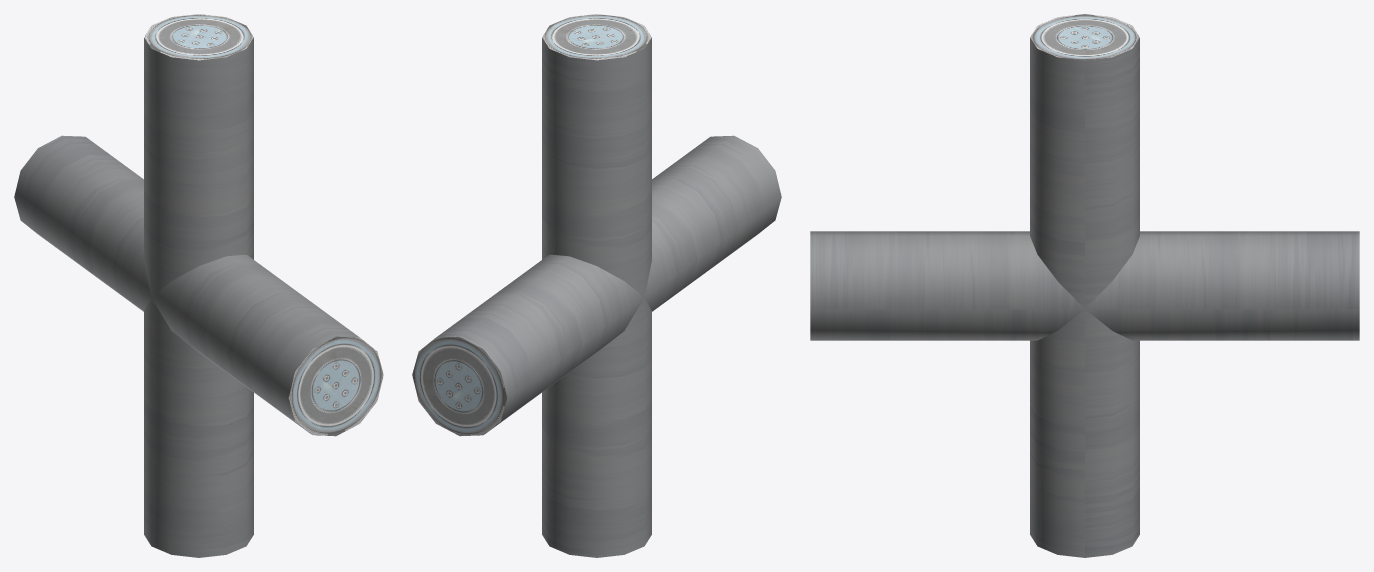
The model's file is SM_RambHose5.fbx.
3 renders of one model, left to right at view 1: azimuth 30°, elevation 25°; view 2: azimuth 150°, elevation 25°; view 3: azimuth 270°, elevation 25°, orthographic.
Parts seen in each view (by area): view 1: SM_RambHose5_LOD0; view 2: SM_RambHose5_LOD0; view 3: SM_RambHose5_LOD0.
Part boxes in pixels (x1,y1,x2,y2): SM_RambHose5_LOD0: (14, 14, 383, 557); SM_RambHose5_LOD0: (412, 14, 781, 557); SM_RambHose5_LOD0: (810, 14, 1359, 557).
Bounding box in the file's own units: 20 × 100 × 100.
2 materials, 2 textured.
